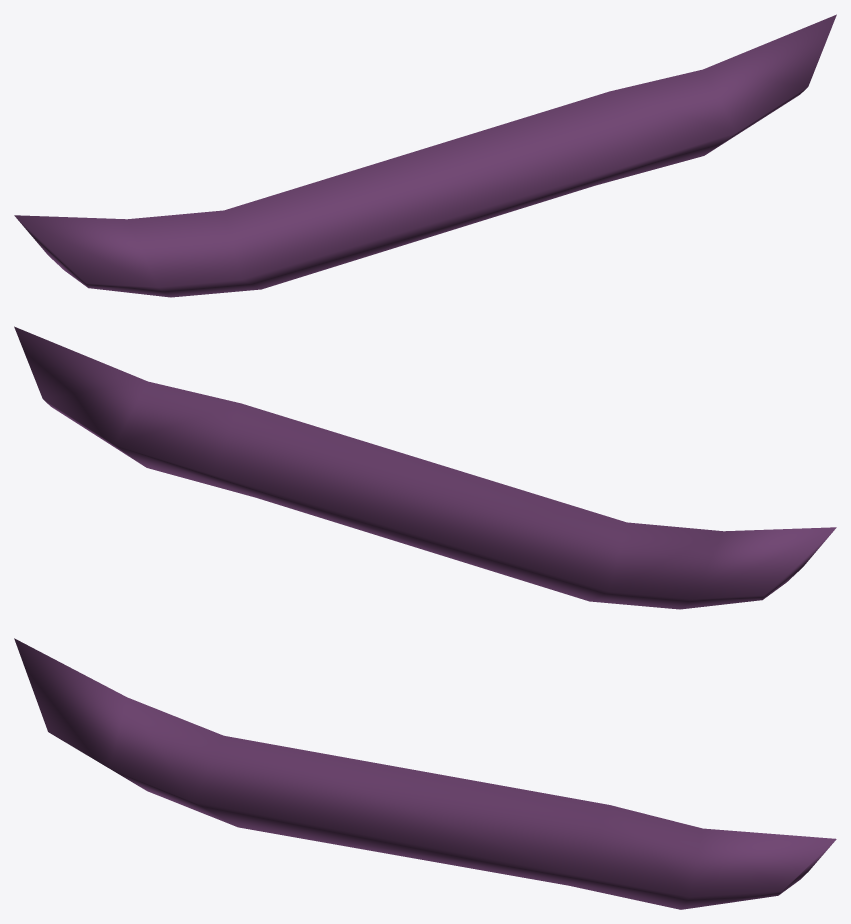
File: lacune.fbx_WhaleUnder002.fbx
The picture shows the model from 3 angles, top to bottom: view 1: azimuth 30°, elevation 25°; view 2: azimuth 150°, elevation 25°; view 3: azimuth 330°, elevation 25°; orthographic projection.
Parts seen in each view (by area): view 1: WhaleUnder002; view 2: WhaleUnder002; view 3: WhaleUnder002.
Boxes of the visible parts, x1,y1,x2,y2 form: WhaleUnder002: (14,14,836,297); WhaleUnder002: (14,326,836,609); WhaleUnder002: (14,638,836,909).
Size of what is drawn, in the model's own units: 19890 by 2845 by 2351.
